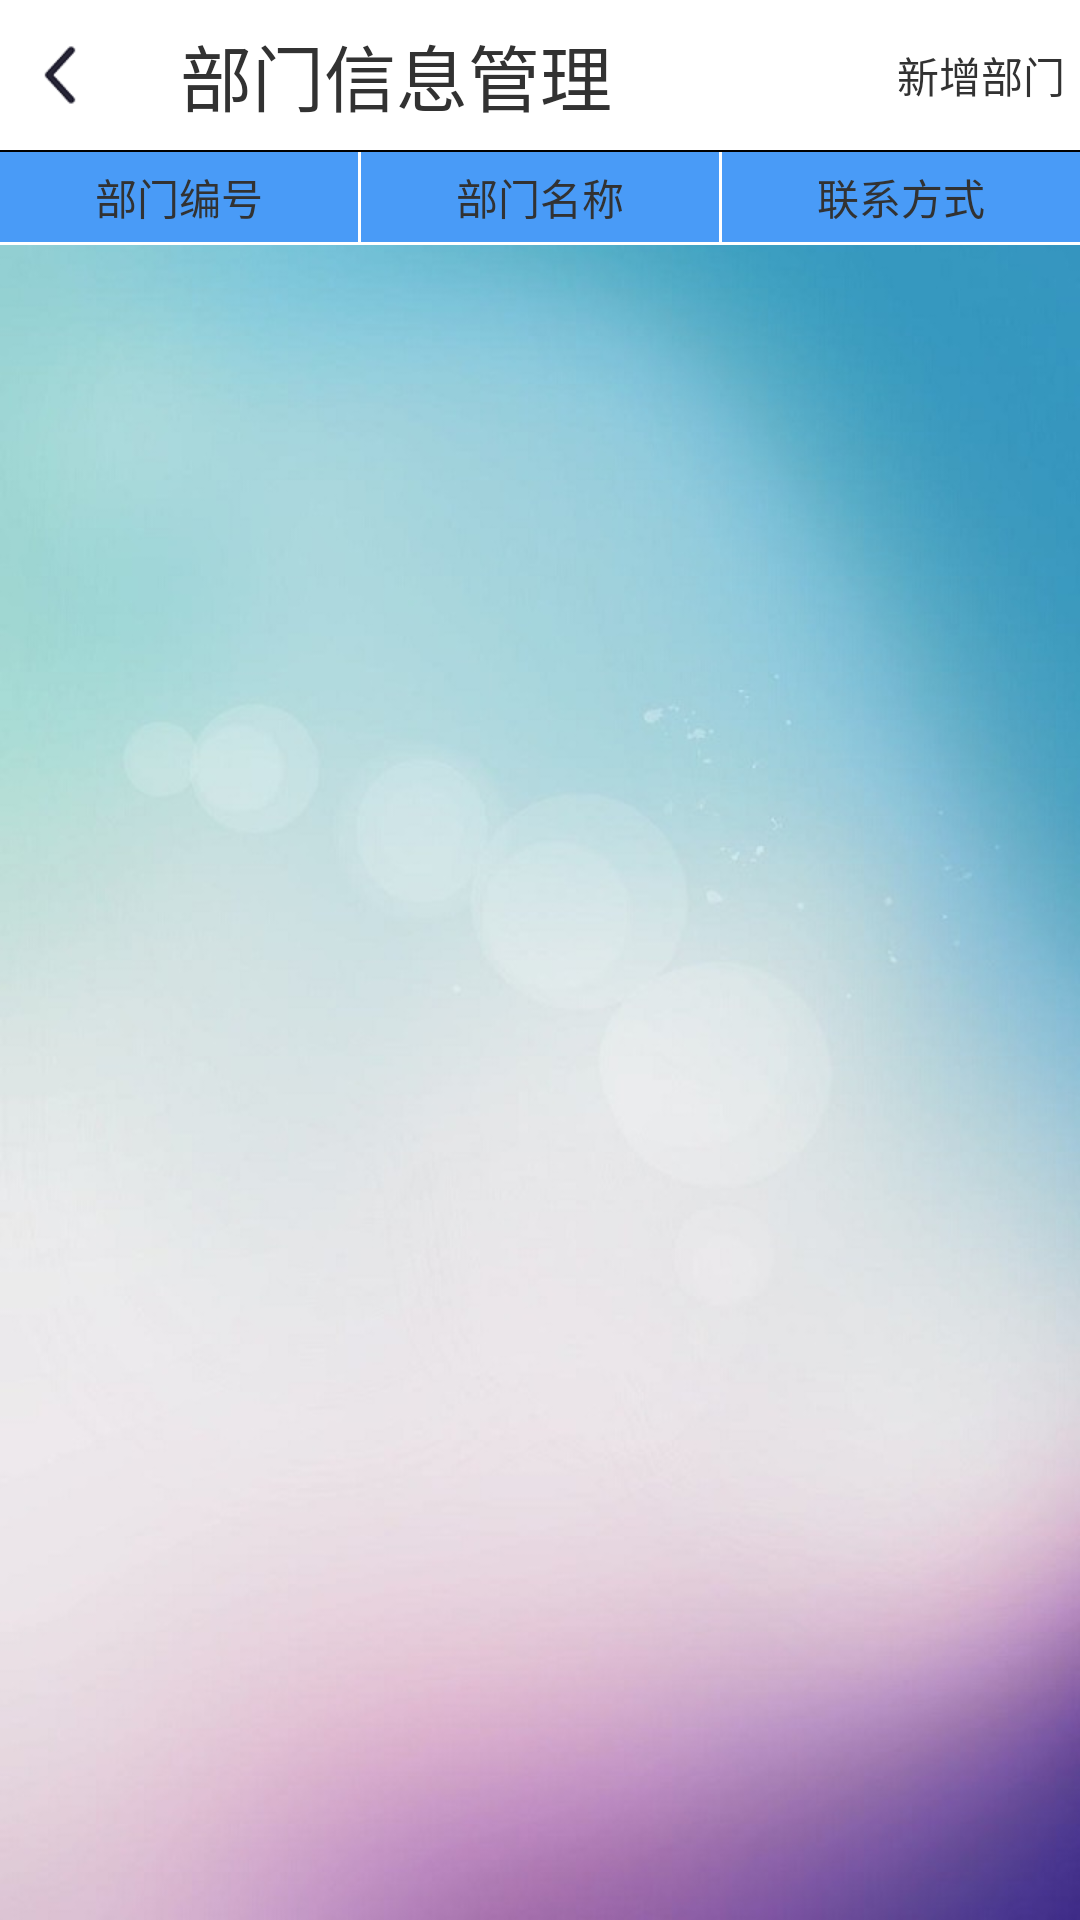

Point at icon controls on the screen. Image size 1080x1920, points as point (x, y).
arrow back: point (60, 75)
